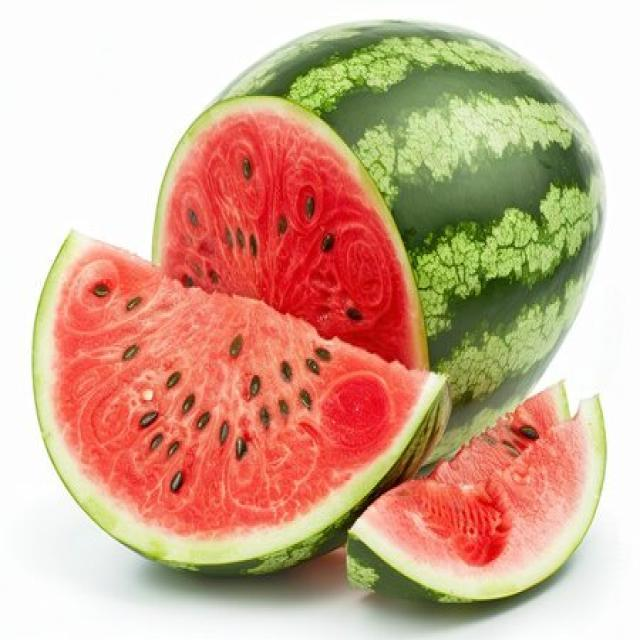Watermelon: (148, 5, 608, 471), (24, 216, 442, 566), (358, 376, 618, 620)
